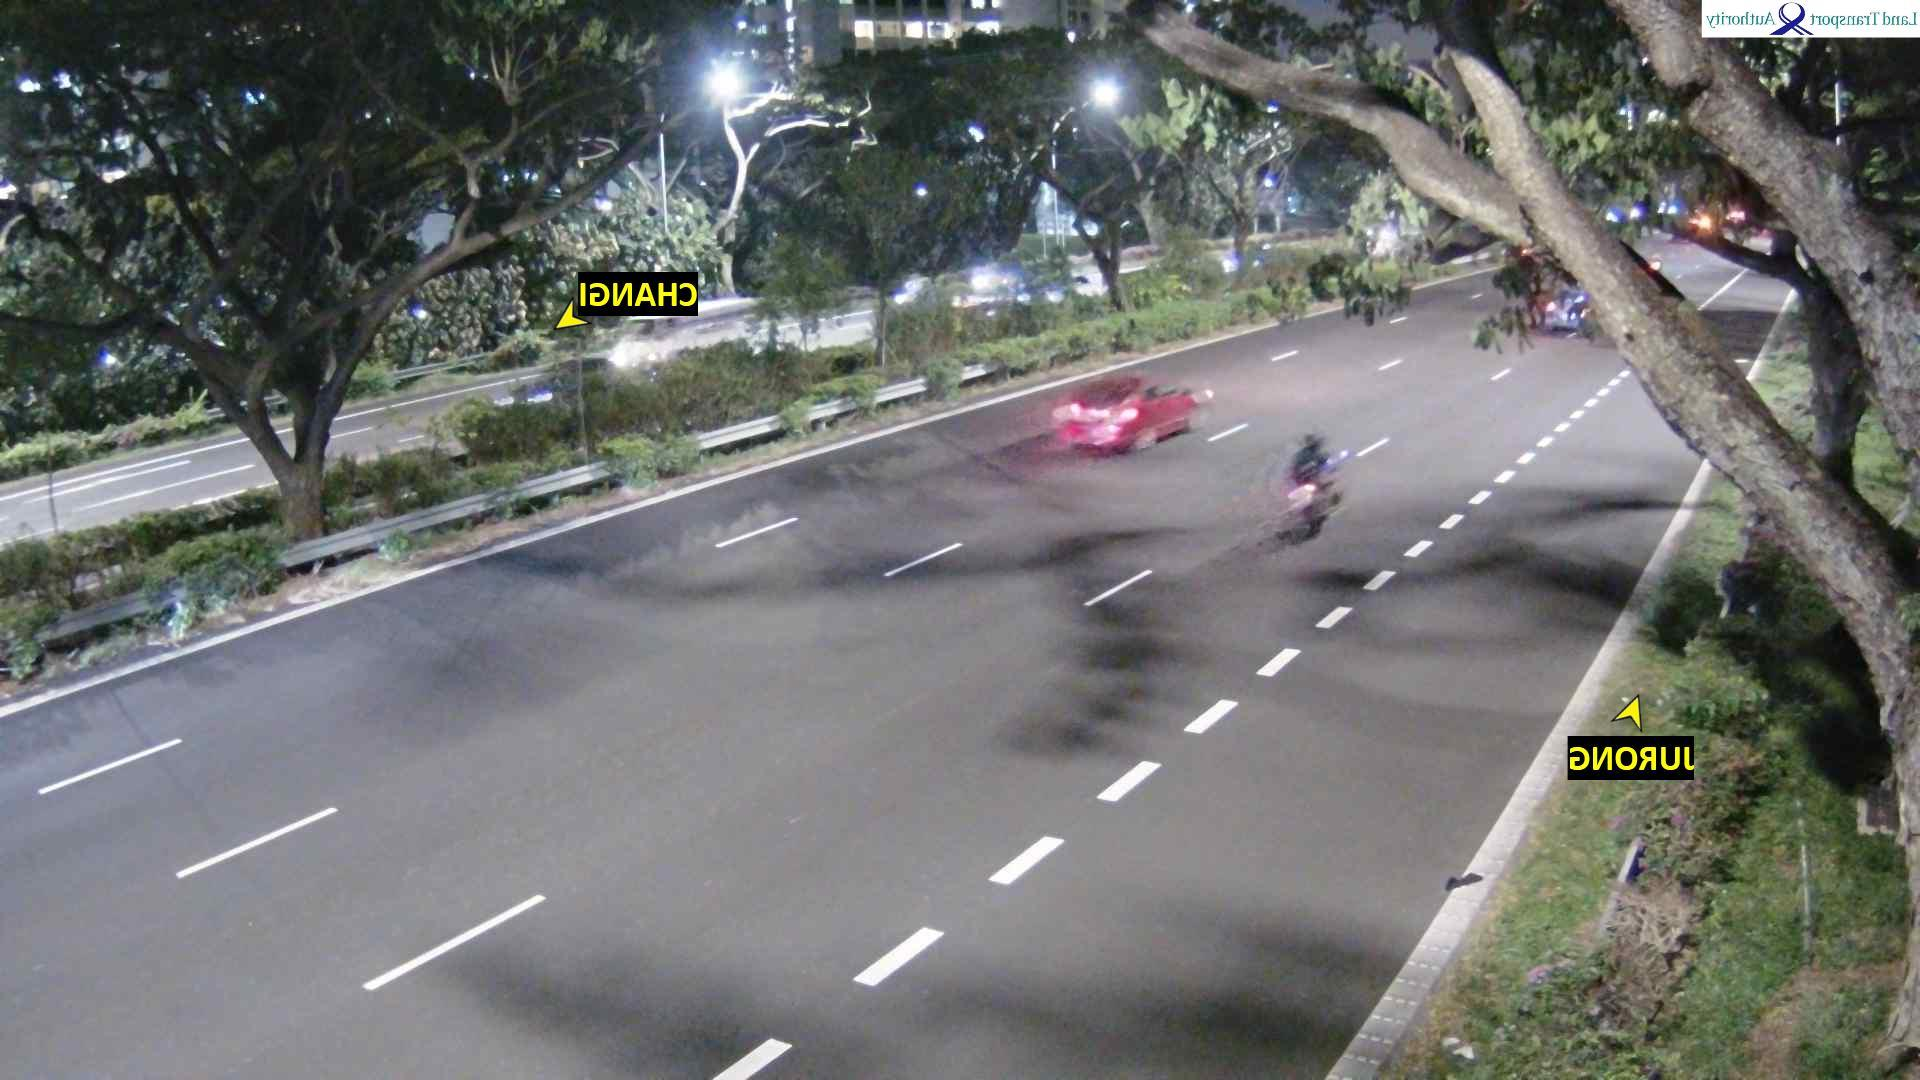cars: (1051, 373, 1215, 456), (483, 352, 622, 438), (1022, 265, 1098, 319), (1542, 284, 1593, 334), (1222, 239, 1275, 276), (1604, 194, 1648, 225), (1687, 204, 1717, 240)
motorcycle: (1273, 451, 1346, 546)
